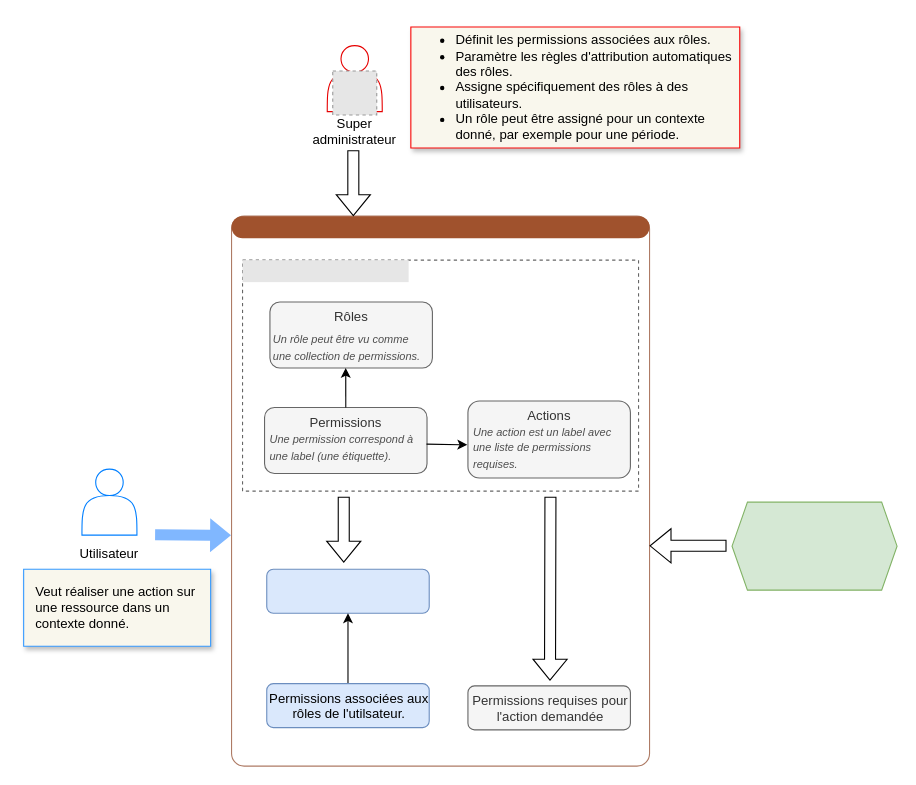
Some shapes in this 916 by 785 pixel diagram are drawn without their labels. Grey dashed boxes stand in for pictures. The shapes that lost their labels are listed below. From the top down, each one's centre as x and y in pixels, then its label:
At (x=440, y=227): "Contrôle d'accès".
At (x=325, y=271): "Registres".
At (x=814, y=545): "Contexte d'exécution (date, établissement, etc)".
At (x=347, y=590): "Rôles de l'utlisateur pour le contexte d'exécution".
